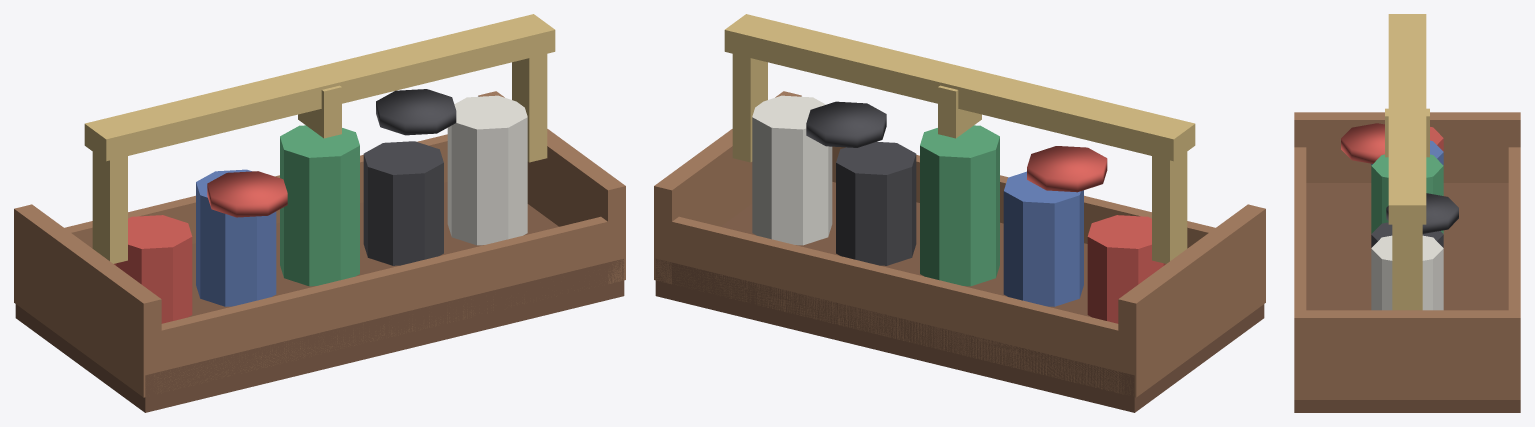
File: scrap_casino_chips.fbx
3 views of the same model, side by side, from view 1: azimuth 30°, elevation 25°; view 2: azimuth 150°, elevation 25°; view 3: azimuth 270°, elevation 25° (orthographic). The views are drawn at different scales.
Parts seen in each view (by area): view 1: scrap_casino_chips; view 2: scrap_casino_chips; view 3: scrap_casino_chips.
Part boxes in pixels (<box>): scrap_casino_chips: <box>14,14,625,412</box>; scrap_casino_chips: <box>654,14,1265,412</box>; scrap_casino_chips: <box>1294,14,1520,412</box>.
Size of the model in its own units: 0.322 by 0.147 by 0.15.
